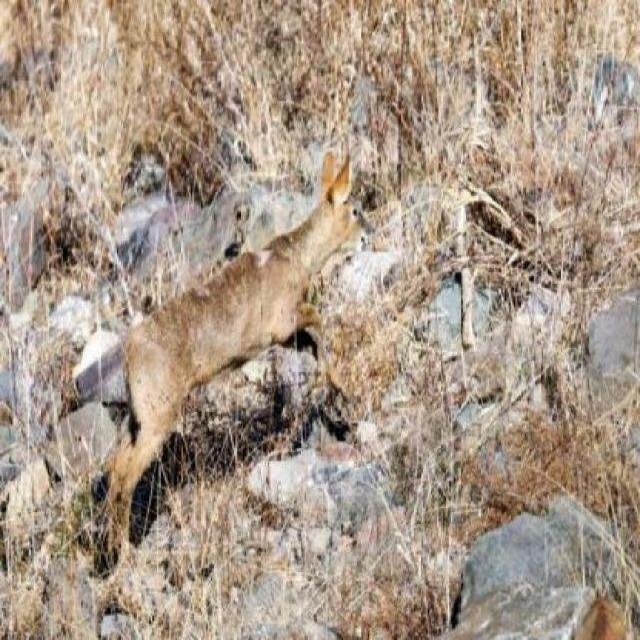deer: (90, 152, 386, 588)
